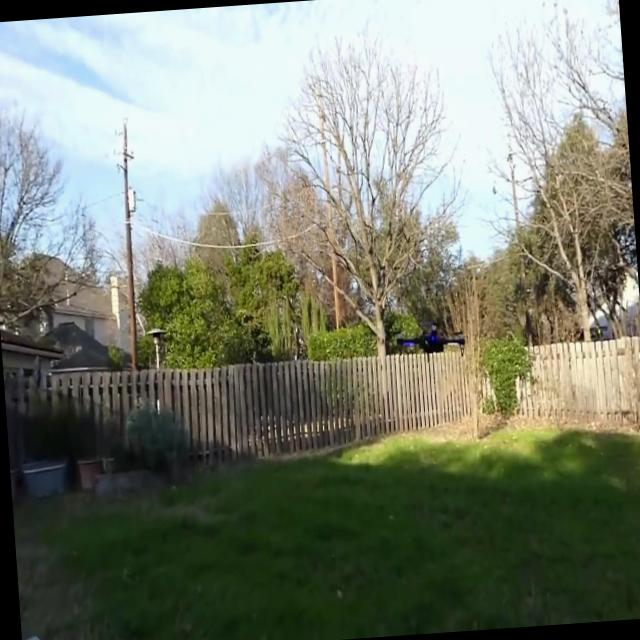drone: (394, 320, 470, 370)
